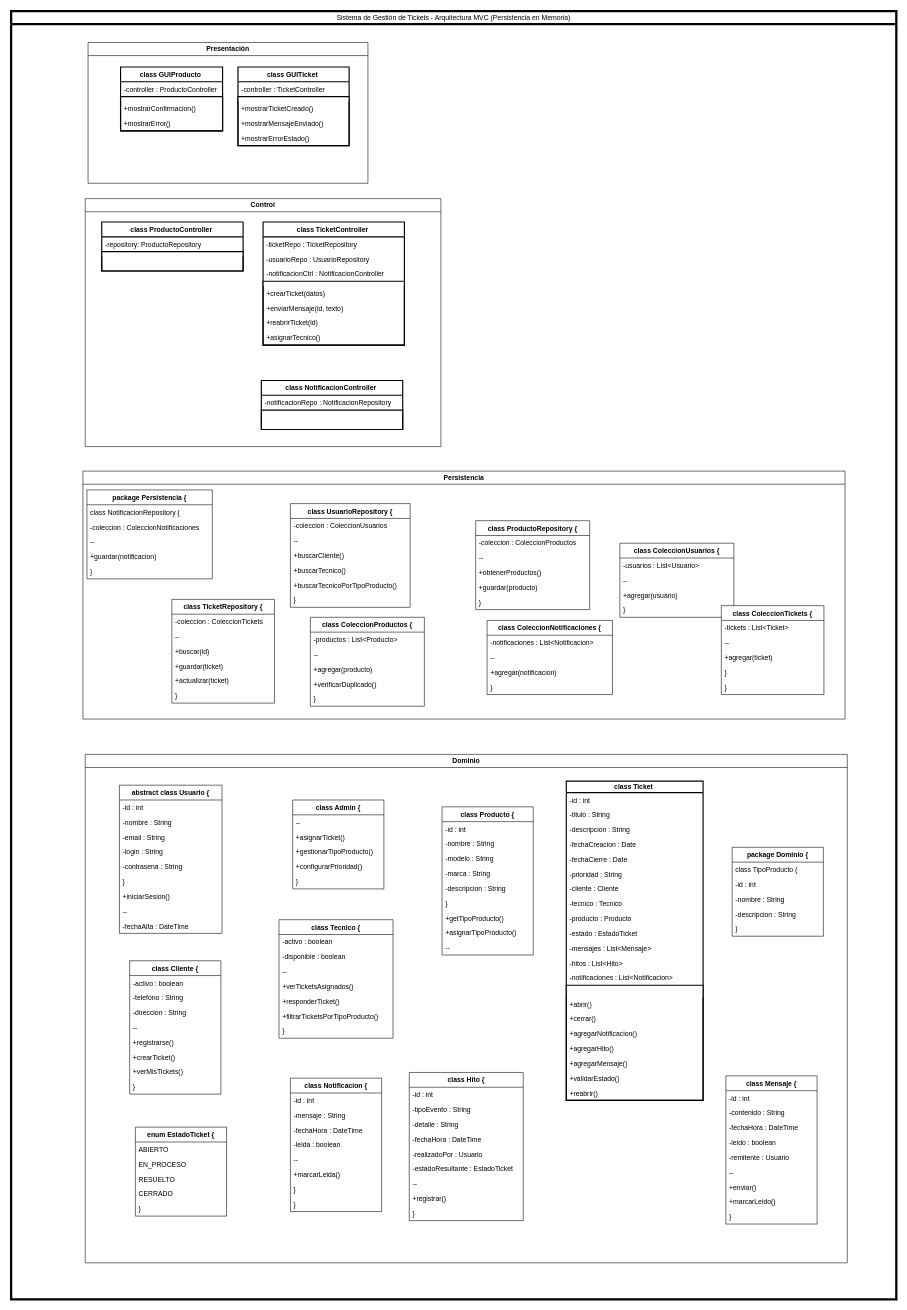
Some shapes in this 907 by 1310 pixel diagram are drawn without their labels. The centre of each missing label's shape, as x and y in pixels:
"+crearNotificacion()" goes at point 331,419.
"+crearProducto(datos)" goes at point 172,261.
